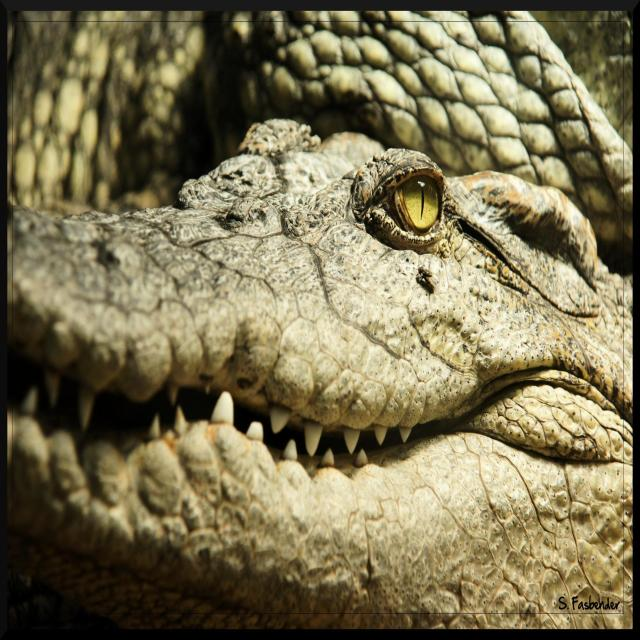crocodile: (5, 21, 622, 629)
